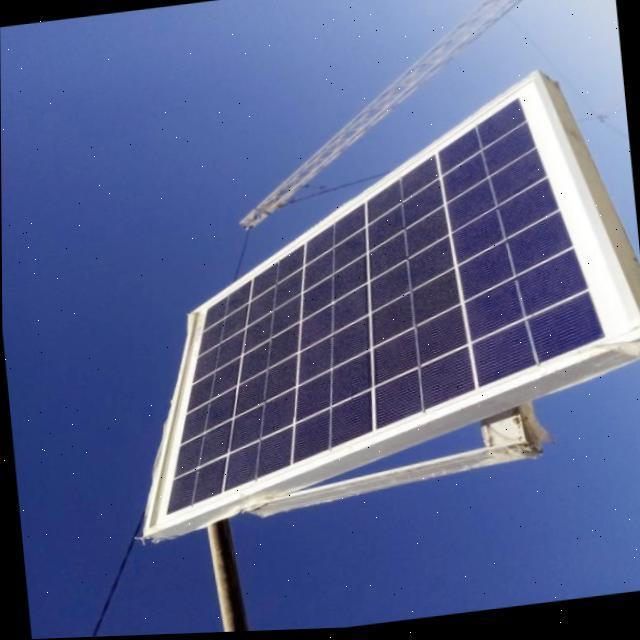Normal Solar Panel: (110, 66, 640, 536)
